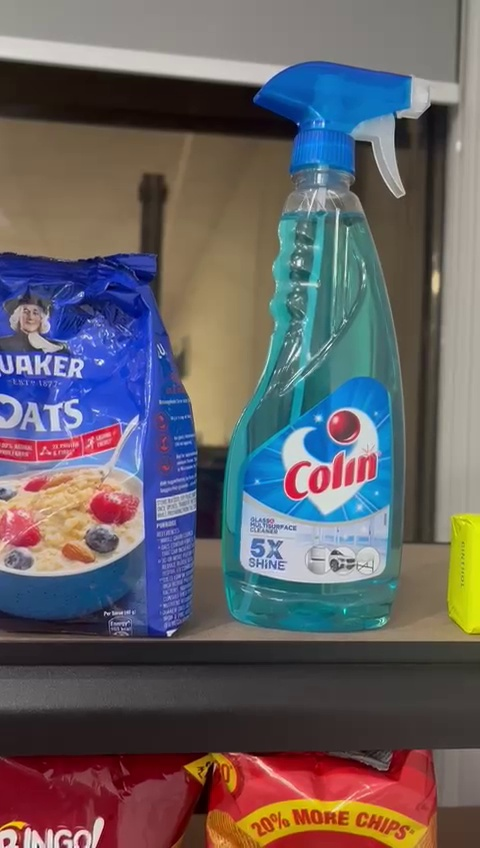Colin: (219, 61, 426, 638)
